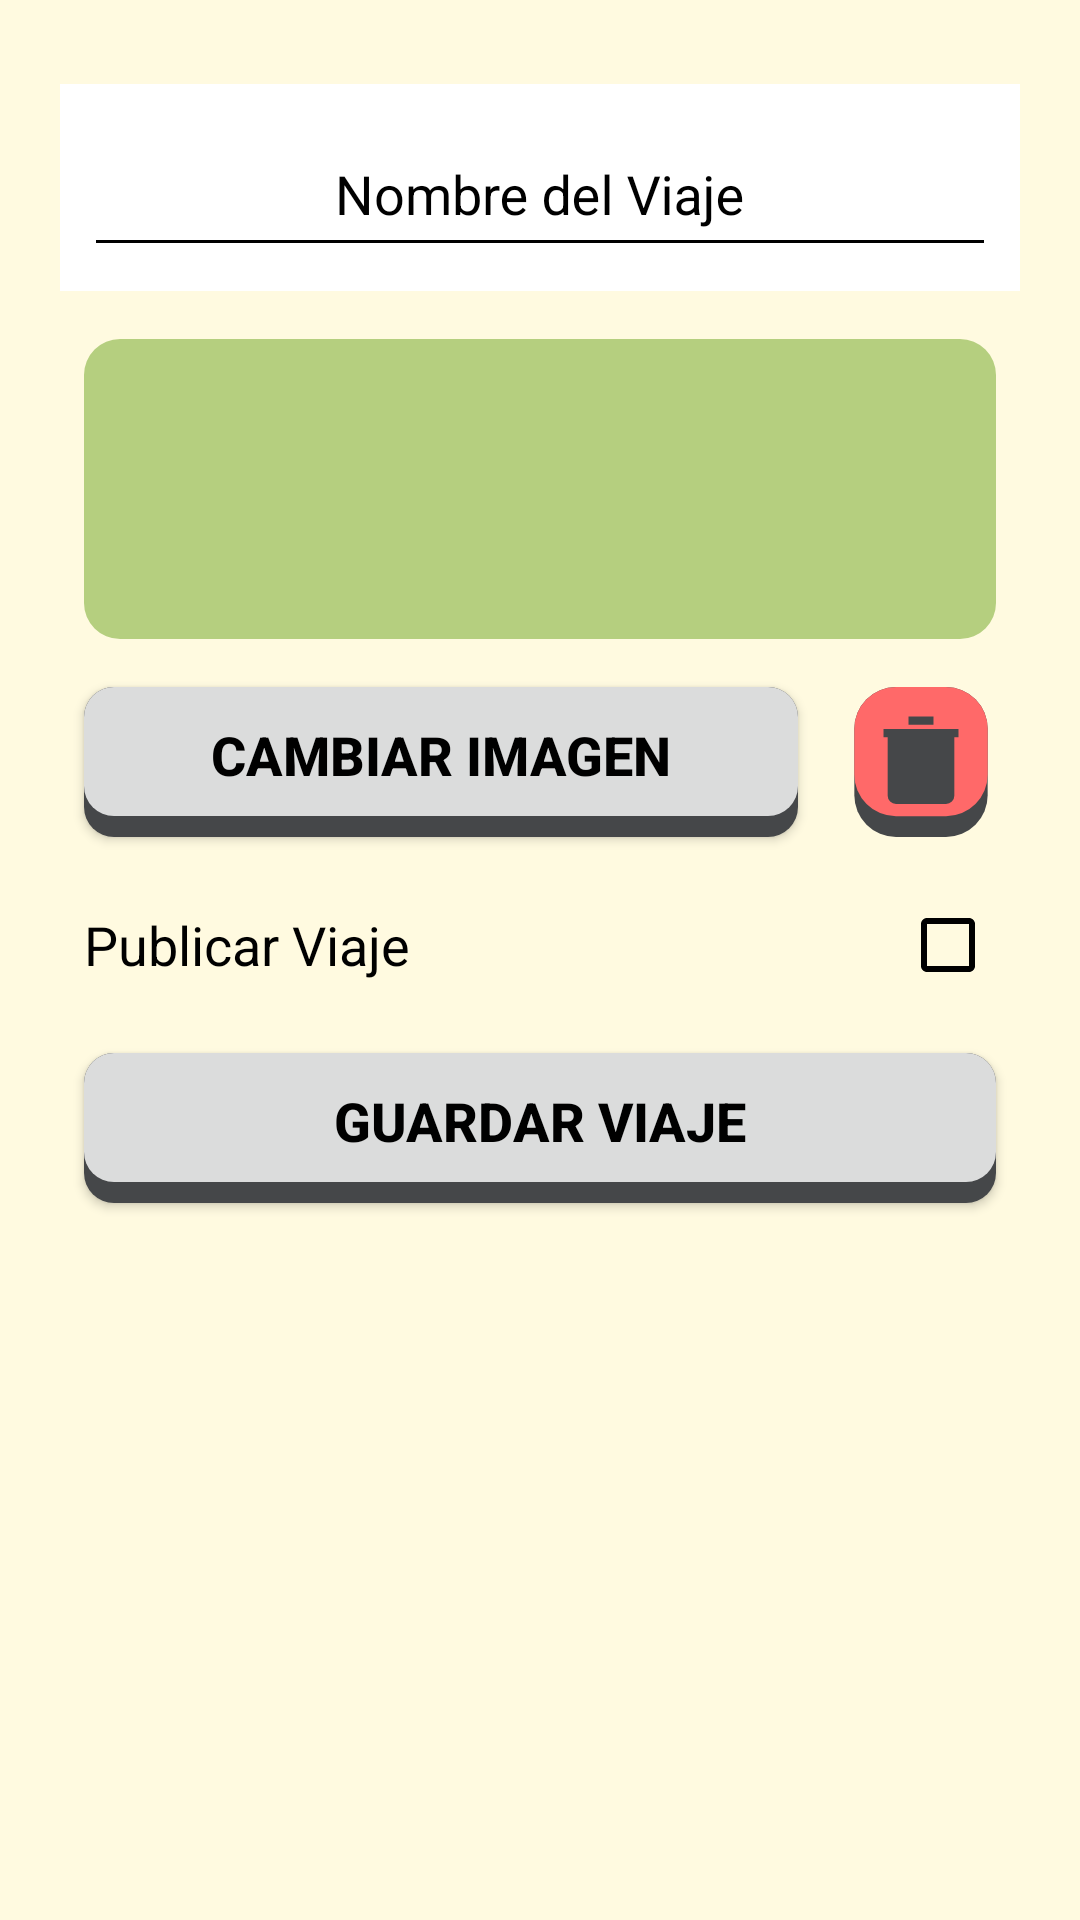

Named icons in this screenshot (1080x1920) and their centers, (x,y):
delete: (921,762)
